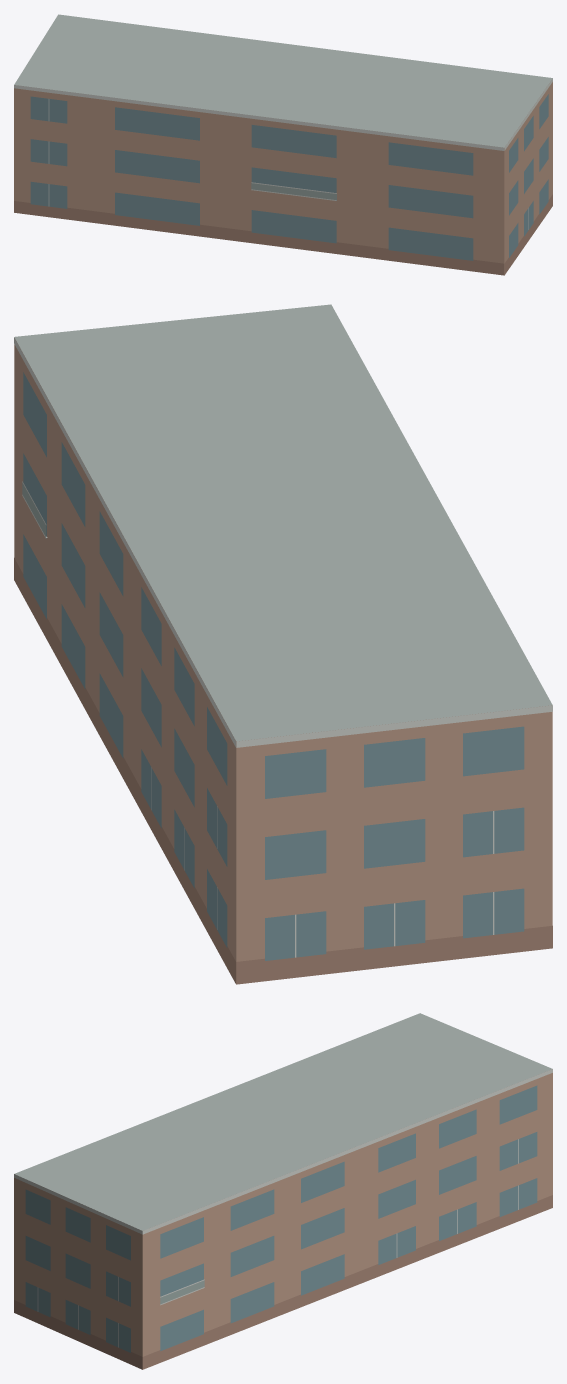
Rendered from survey-upis-32761575.glb.
The picture shows the model from 3 angles, top to bottom: view 1: azimuth 30°, elevation 25°; view 2: azimuth 150°, elevation 25°; view 3: azimuth 270°, elevation 25°; orthographic projection. The views are drawn at different scales.
Parts seen in each view (by area): view 1: survey-upis-32761575.tmp; view 2: survey-upis-32761575.tmp; view 3: survey-upis-32761575.tmp.
Part boxes in pixels (x1,y1,x2,y2): survey-upis-32761575.tmp: [14, 14, 552, 275]; survey-upis-32761575.tmp: [14, 304, 552, 984]; survey-upis-32761575.tmp: [14, 1013, 552, 1369].
Bounding box in the file's own units: 30.8 × 9.15 × 32.19.
